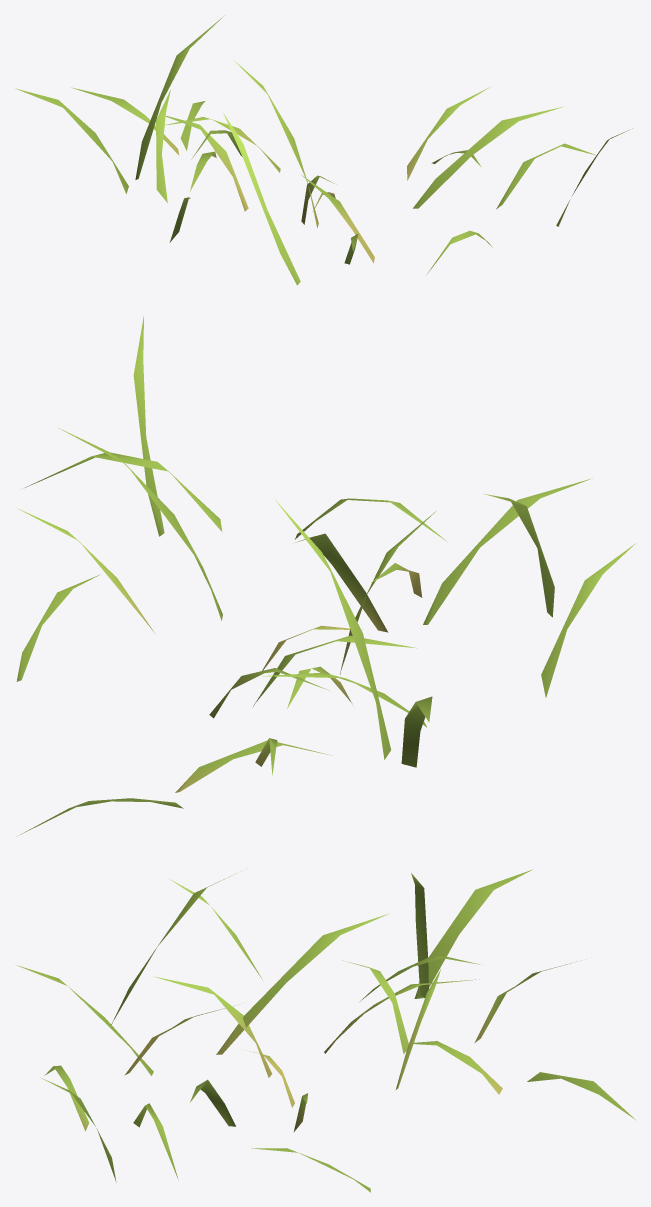
Rendered from capim_bq_a_lo.glb.
The picture shows the model from 3 angles, top to bottom: view 1: azimuth 30°, elevation 25°; view 2: azimuth 150°, elevation 25°; view 3: azimuth 270°, elevation 25°; orthographic projection. The views are drawn at different scales.
Visible parts, largest first — view 1: capim_bq_a_lo; view 2: capim_bq_a_lo; view 3: capim_bq_a_lo.
Boxes of the visible parts, x1,y1,x2,y2 form: capim_bq_a_lo: [15, 15, 632, 285]; capim_bq_a_lo: [16, 316, 635, 836]; capim_bq_a_lo: [16, 869, 636, 1192].
Size of the model in its own units: 20 by 8.15 by 21.68.
1 material, 1 textured.
